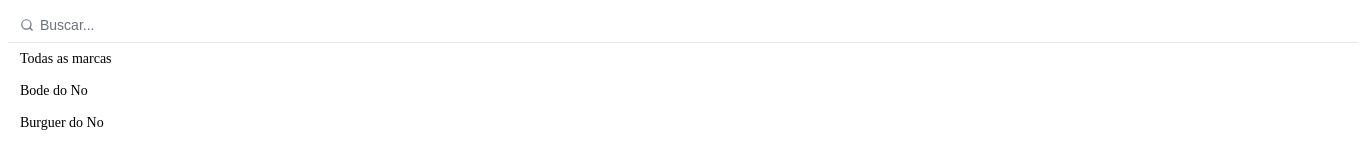
Test: SelectFilter › Busca › RF12: filtra opcoes pelo label
In the field with class "select-filter__search-input": (692, 25) [38,16,1346,34], type "Bode"
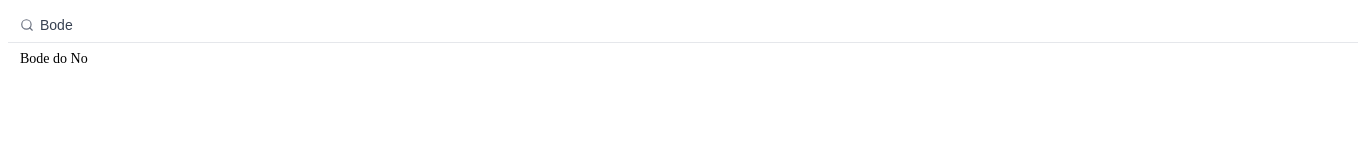
Expected: the option with class "select-filter__option" reads "Bode do No", [20,51,88,66]
Expected: the number of options with class "select-filter__option" is 1, [20,51,88,66]
